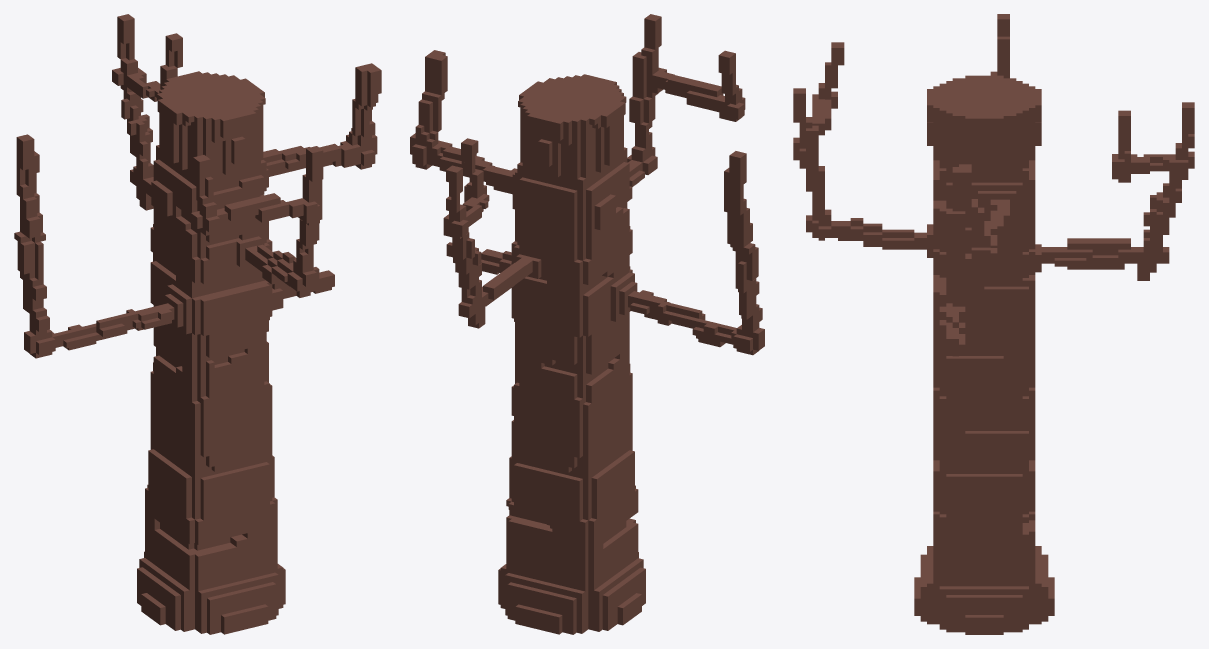
Rendered from trunk_0.glb.
3 views of the same model, side by side, from view 1: azimuth 30°, elevation 25°; view 2: azimuth 150°, elevation 25°; view 3: azimuth 270°, elevation 25° (orthographic).
Parts seen in each view (by area): view 1: trunk_0; view 2: trunk_0; view 3: trunk_0.
Boxes of the visible parts, x1=… form: trunk_0: x1=14, y1=14, x2=381, y2=634; trunk_0: x1=410, y1=14, x2=764, y2=634; trunk_0: x1=793, y1=14, x2=1194, y2=634.
Size of the model in its own units: 6.3 by 9 by 6.3.
1 material, 1 textured.
